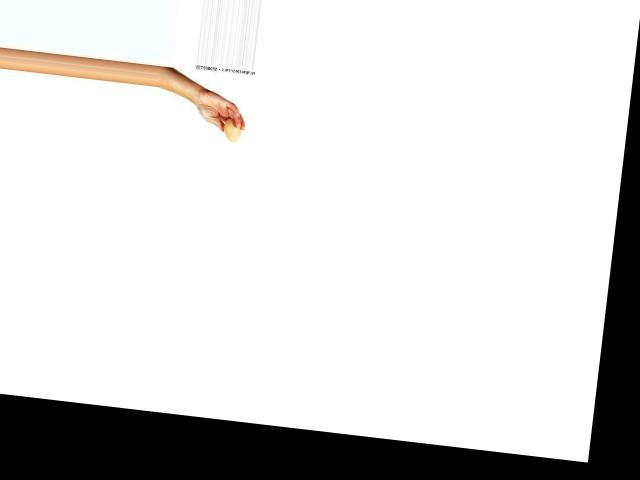egg: (221, 116, 242, 142)
